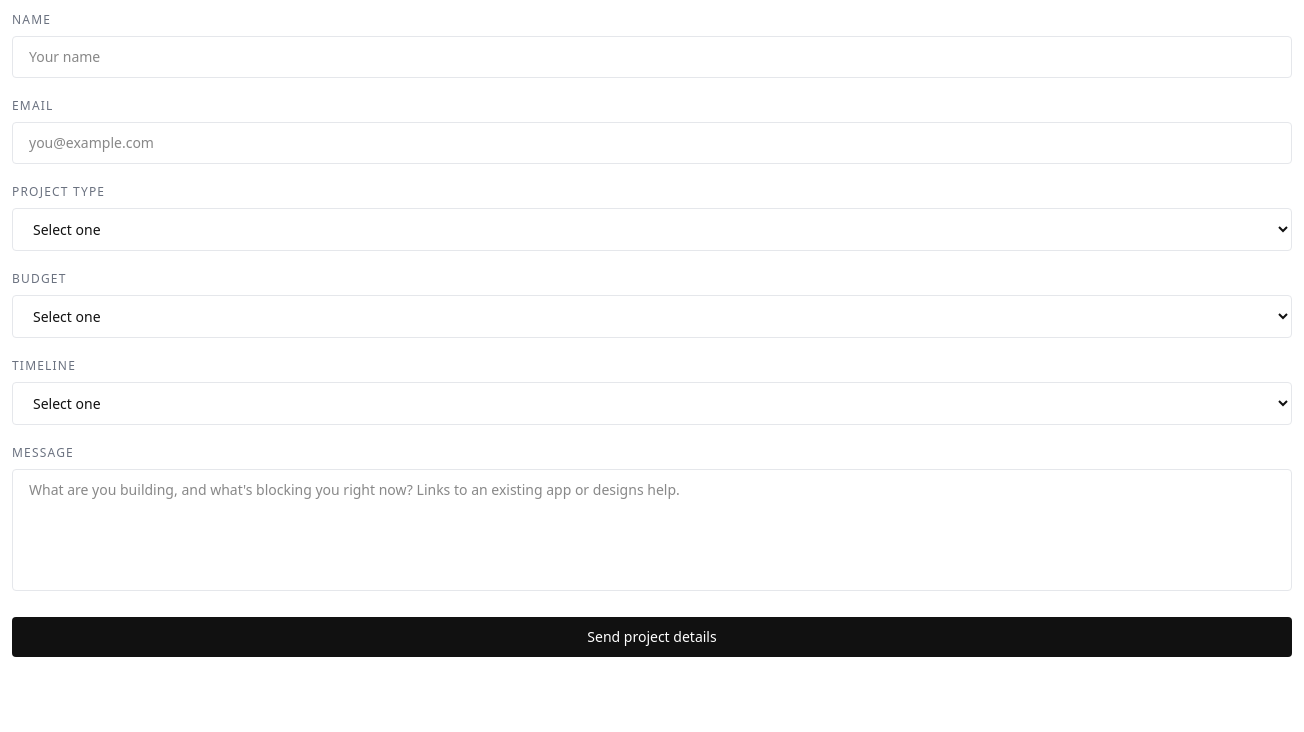
Test case: ContactForm › shows an error message with the contact email and keeps the name field on failure
Type "Jane Doe" into the field labelled "Name" at (652, 57), box [12,36,1292,78]
Type "jane@example.com" into the field labelled "Email" at (652, 143), box [12,122,1292,164]
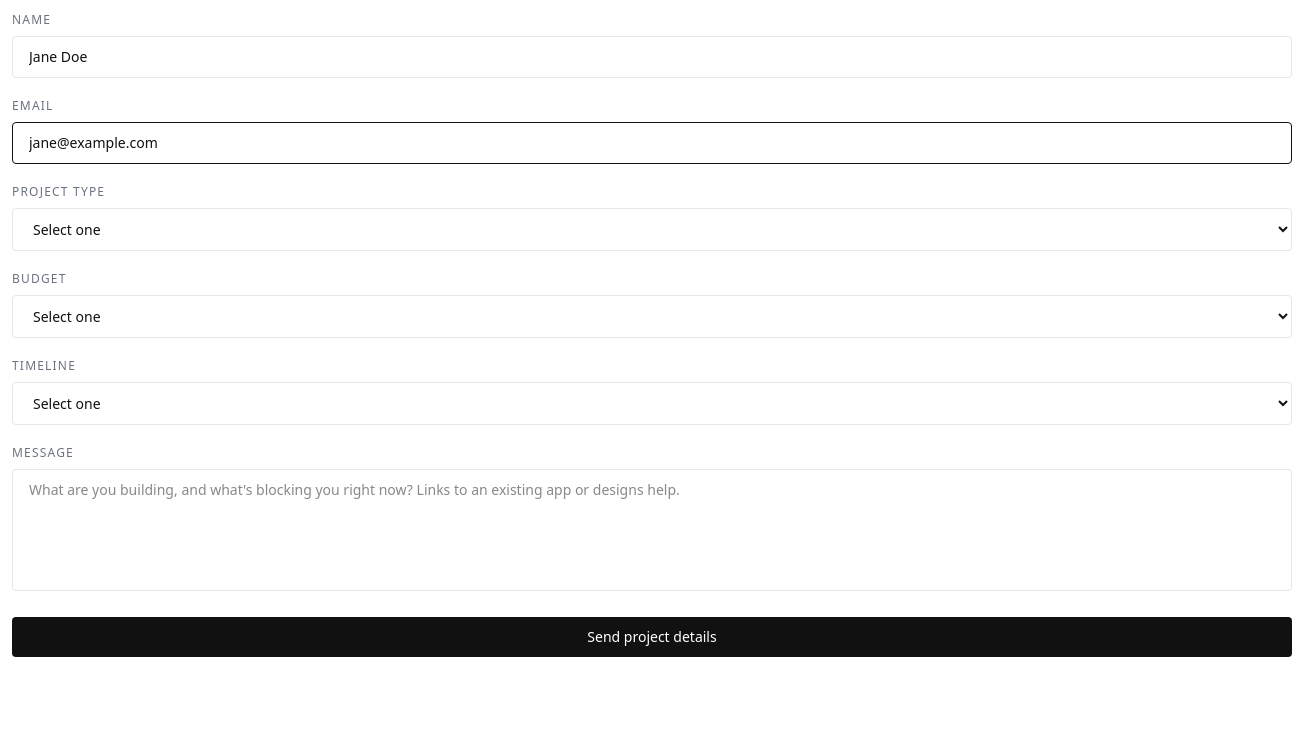
Select "BLE code audit" in the dropdown labelled "Project type" at (652, 230), box [12,208,1292,251]
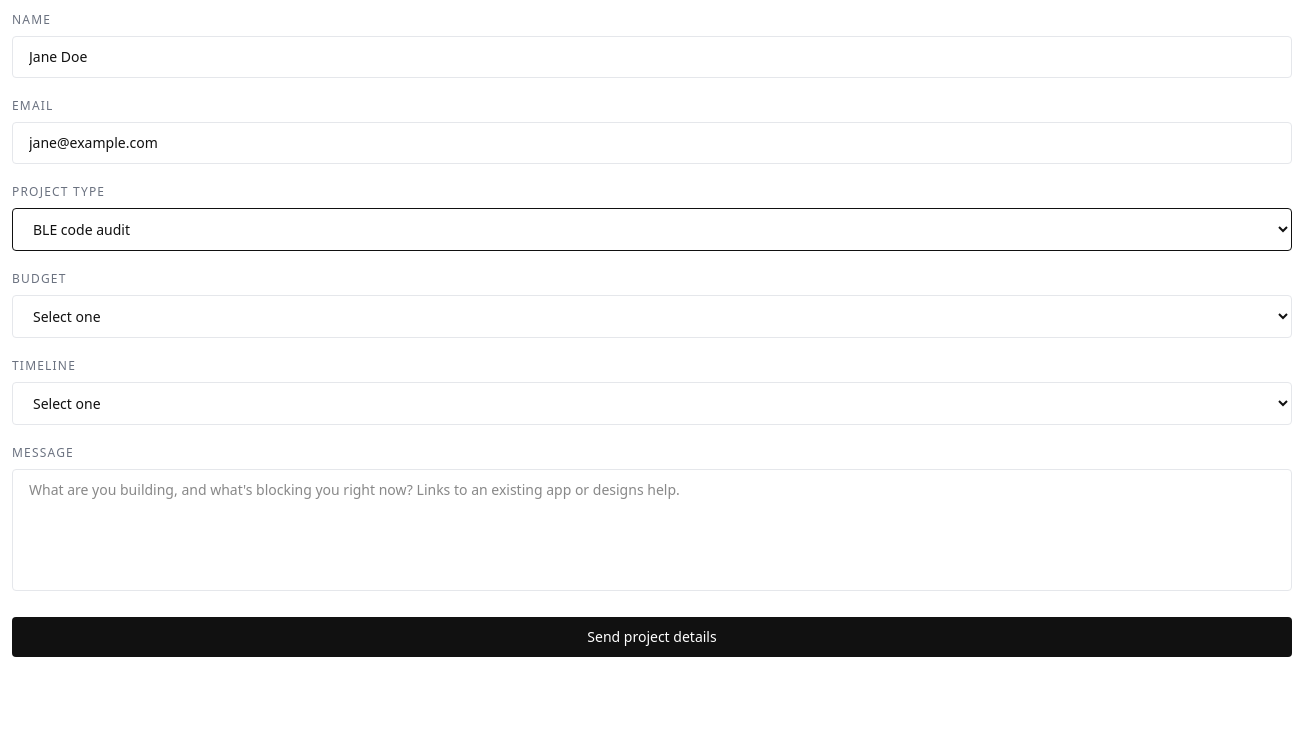
Select "$2k–$5k" in the dropdown labelled "Budget" at (652, 316), box [12,295,1292,338]
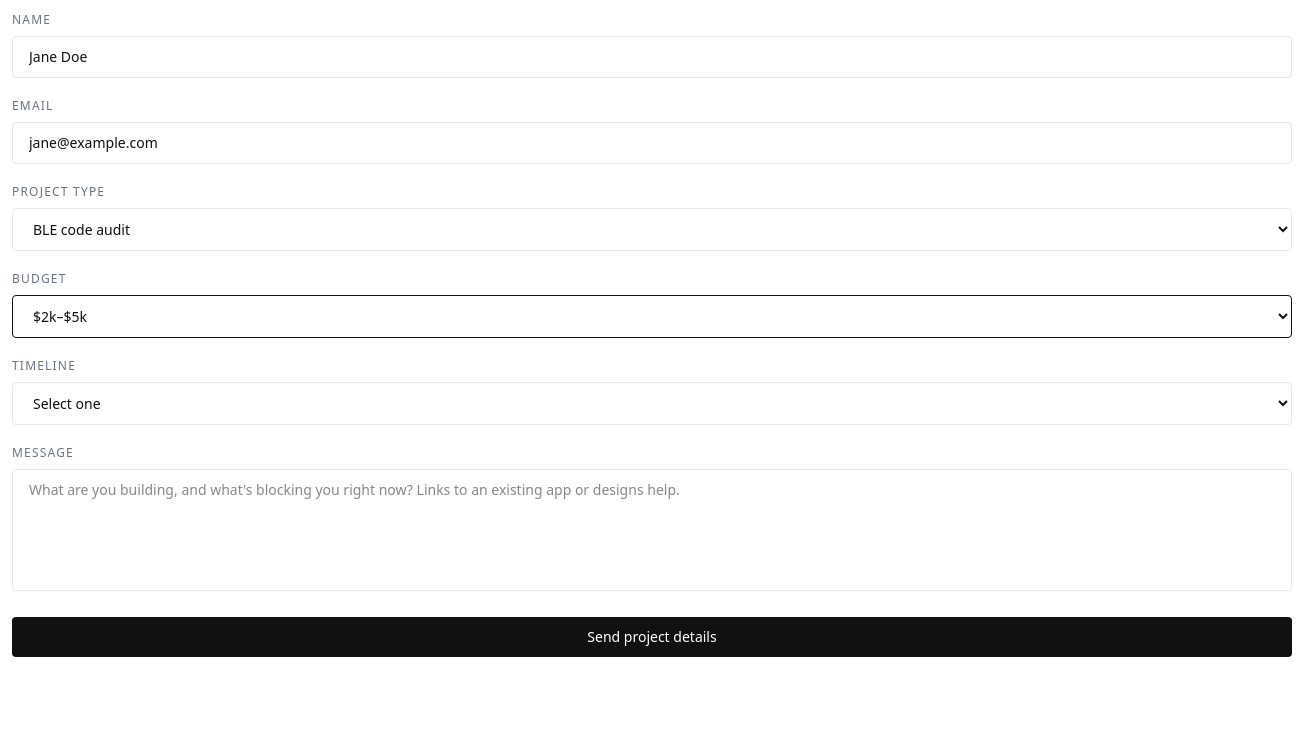
Select "ASAP" in the dropdown labelled "Timeline" at (652, 404), box [12,382,1292,425]
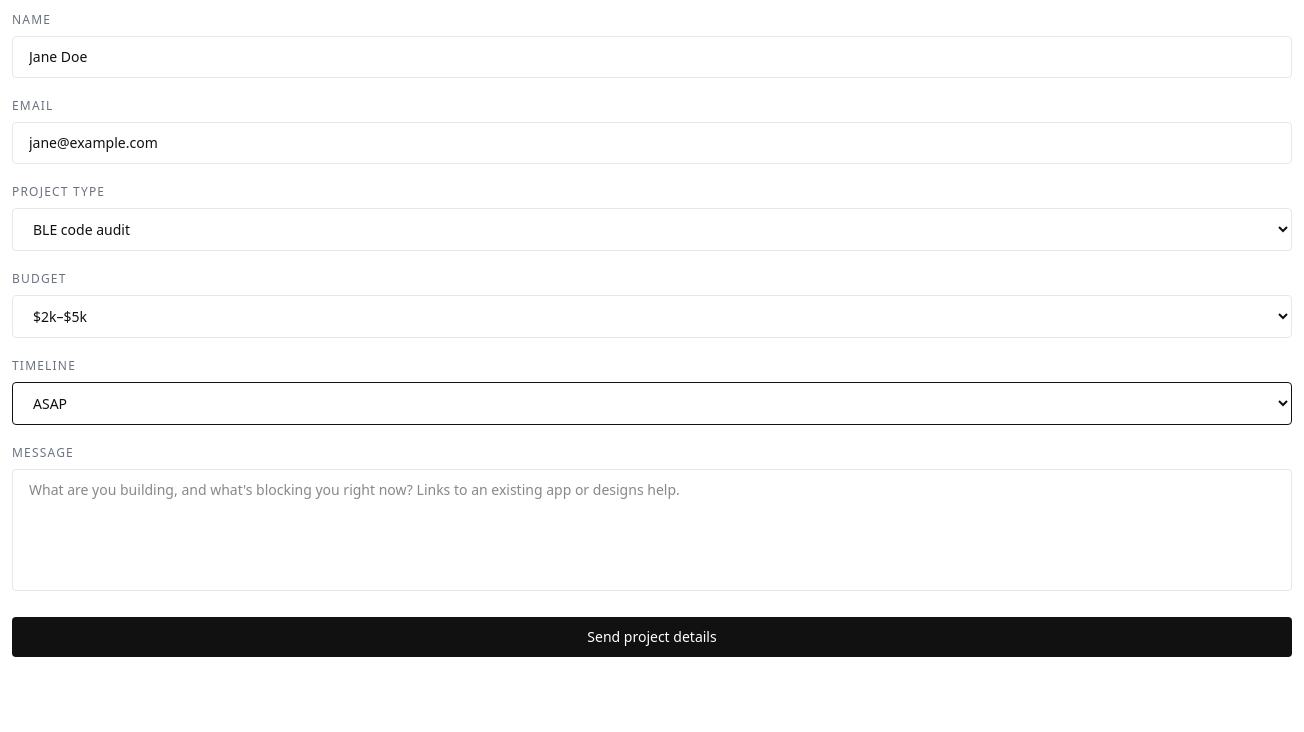
Type "Please help build this." into the text box labelled "Message" at (652, 530), box [12,469,1292,591]
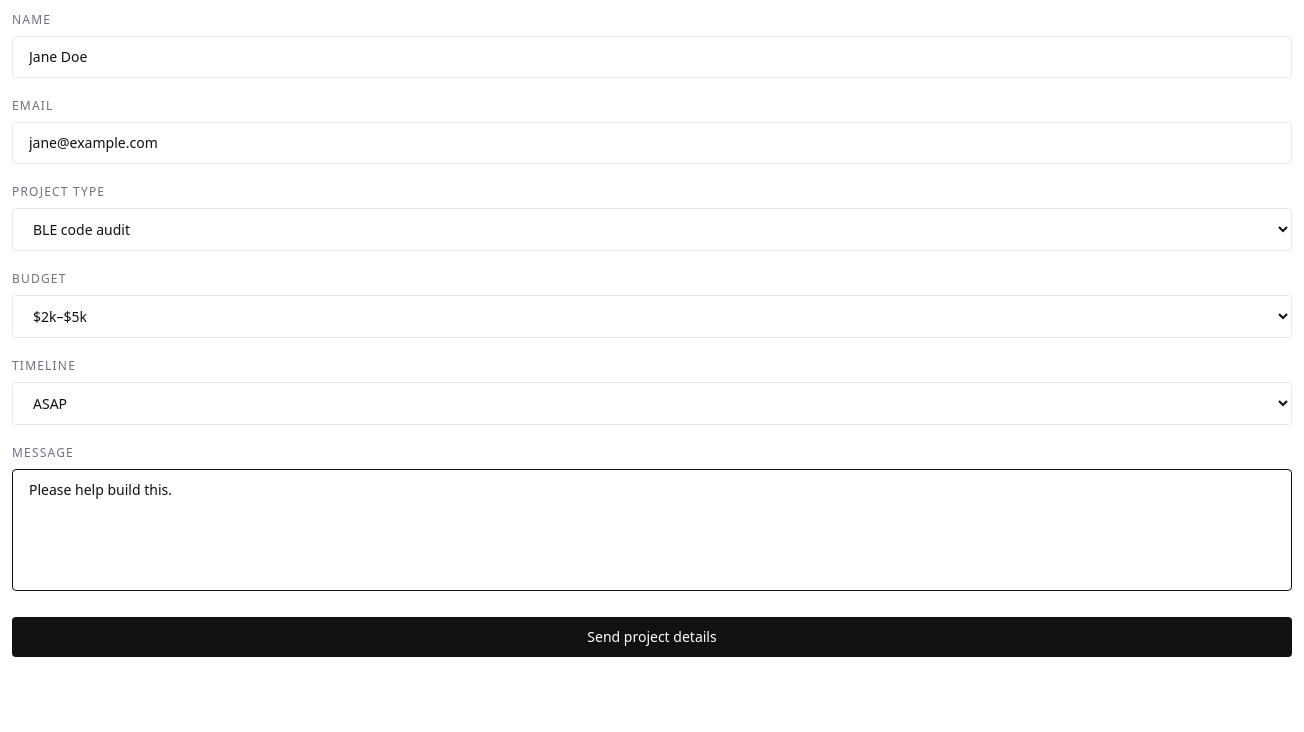
Click the button "Send project details" at (652, 637), box [12,617,1292,657]
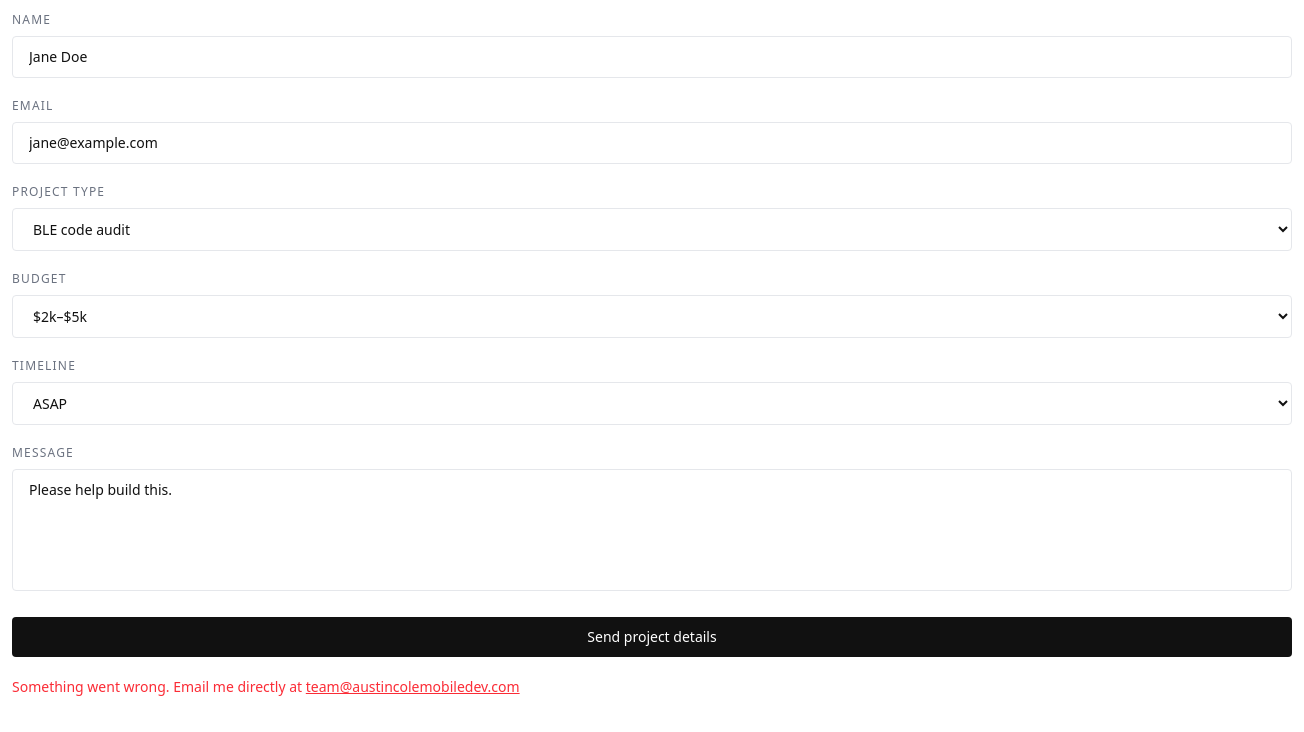
Expected: the text "team@austincolemobiledev.com" is shown, [306,677,520,696]
